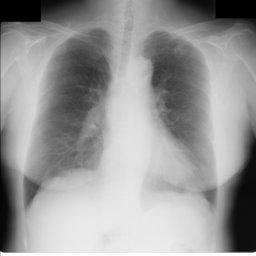left lobe: (144, 32, 215, 184)
right lobe: (25, 29, 111, 184)
